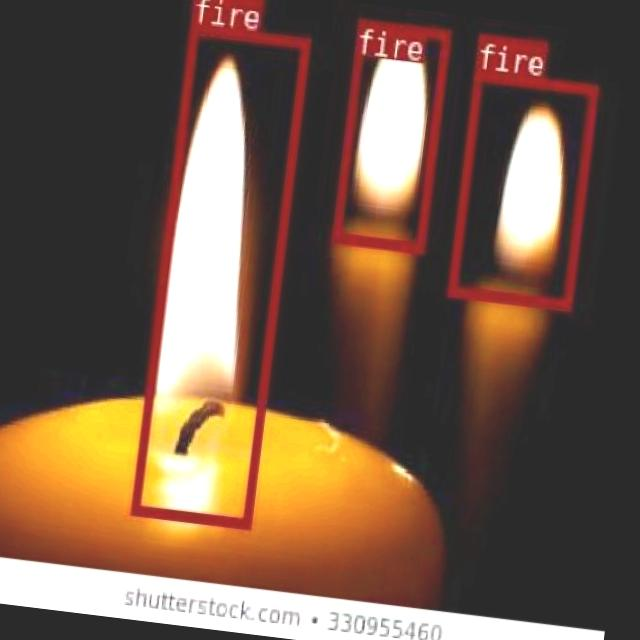fire: (130, 22, 309, 527), (446, 68, 596, 308), (330, 17, 449, 250)
